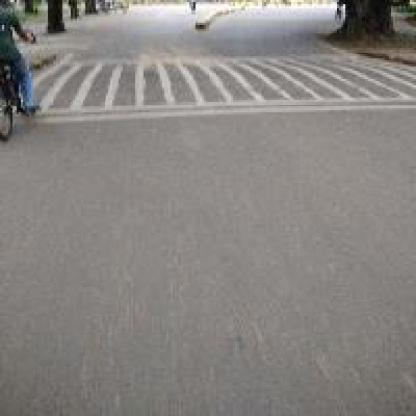Speed Bump: (42, 48, 414, 125)
